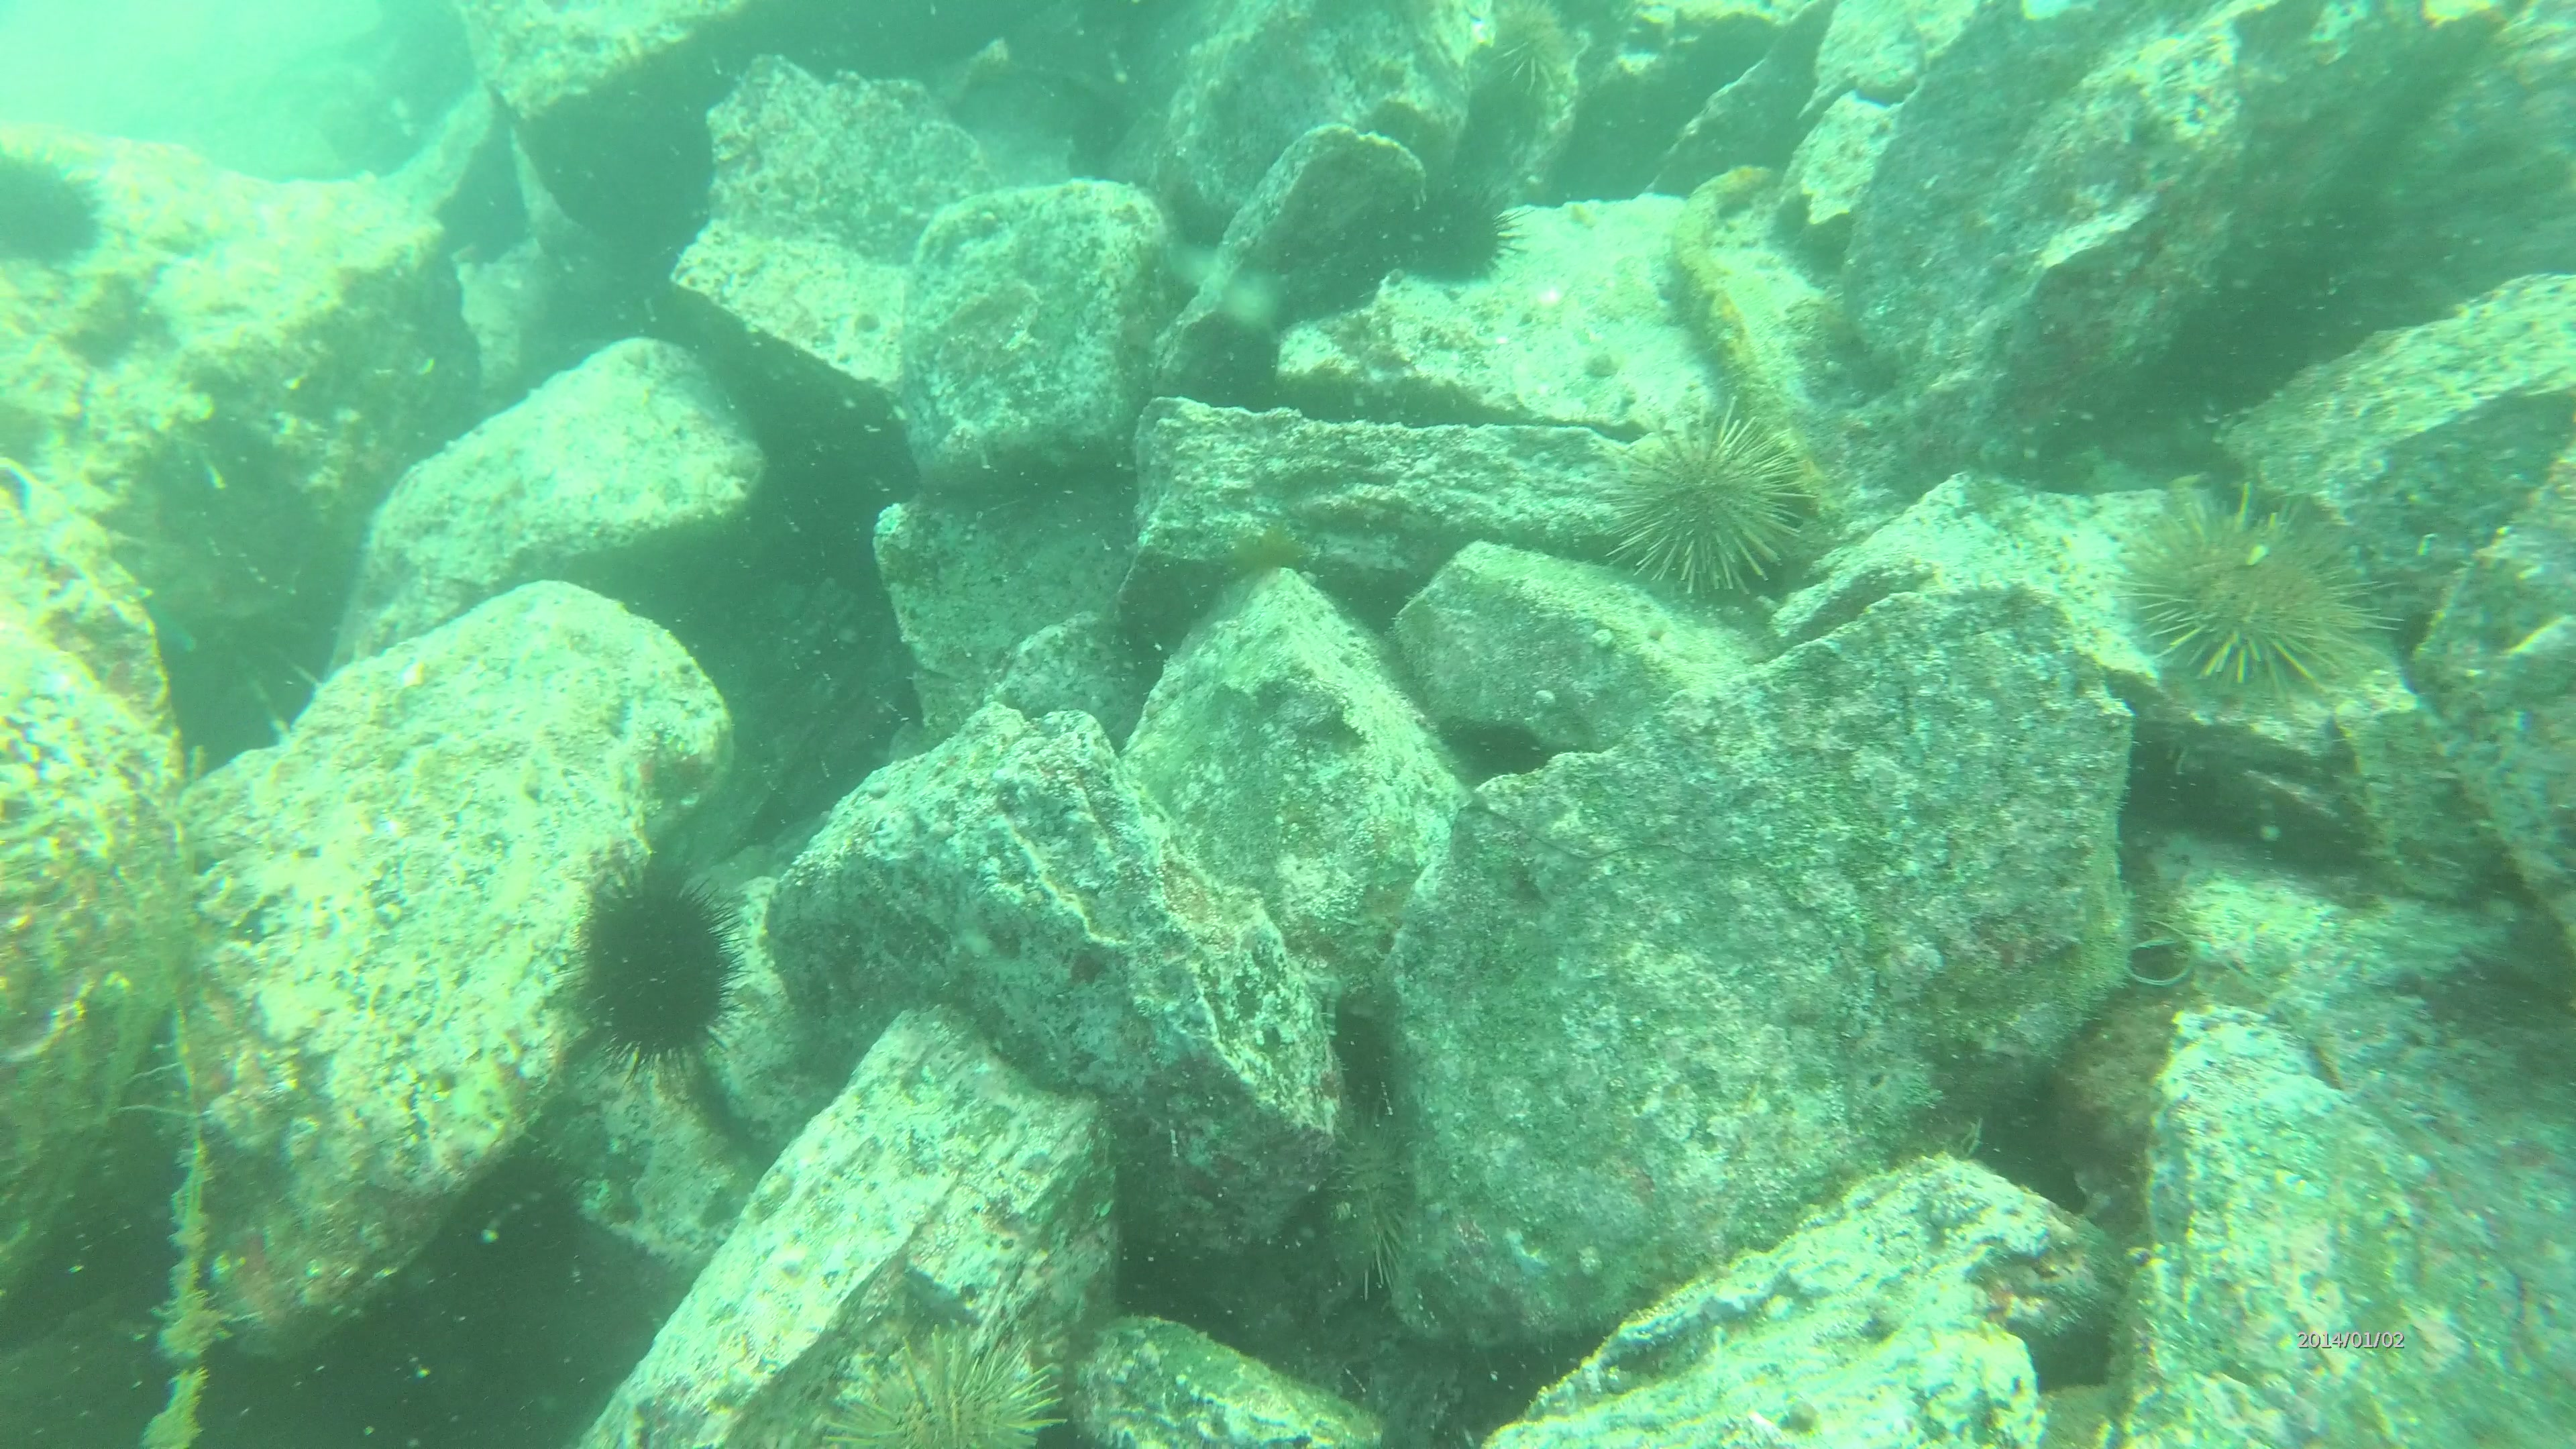echinus: (2130, 488, 2406, 711), (1599, 410, 1828, 607), (586, 856, 747, 1099), (828, 1318, 1067, 1449), (1322, 1088, 1414, 1295), (1376, 177, 1537, 287), (0, 145, 108, 278), (1481, 0, 1599, 106)
